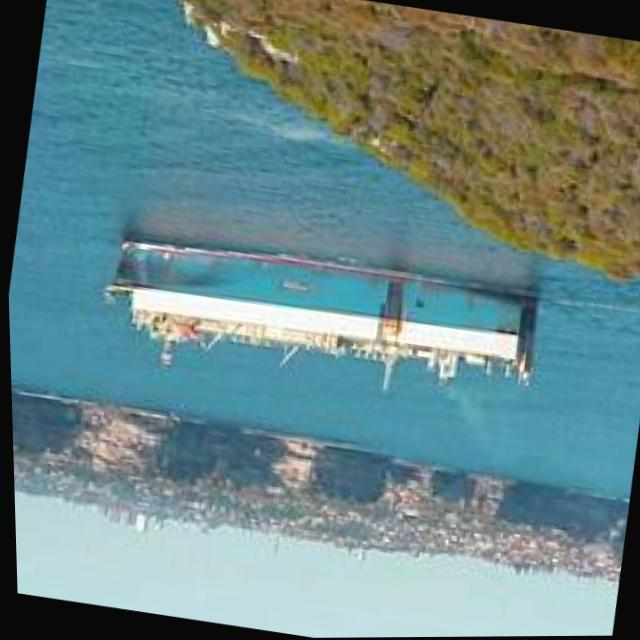ship2: (97, 239, 539, 396)
